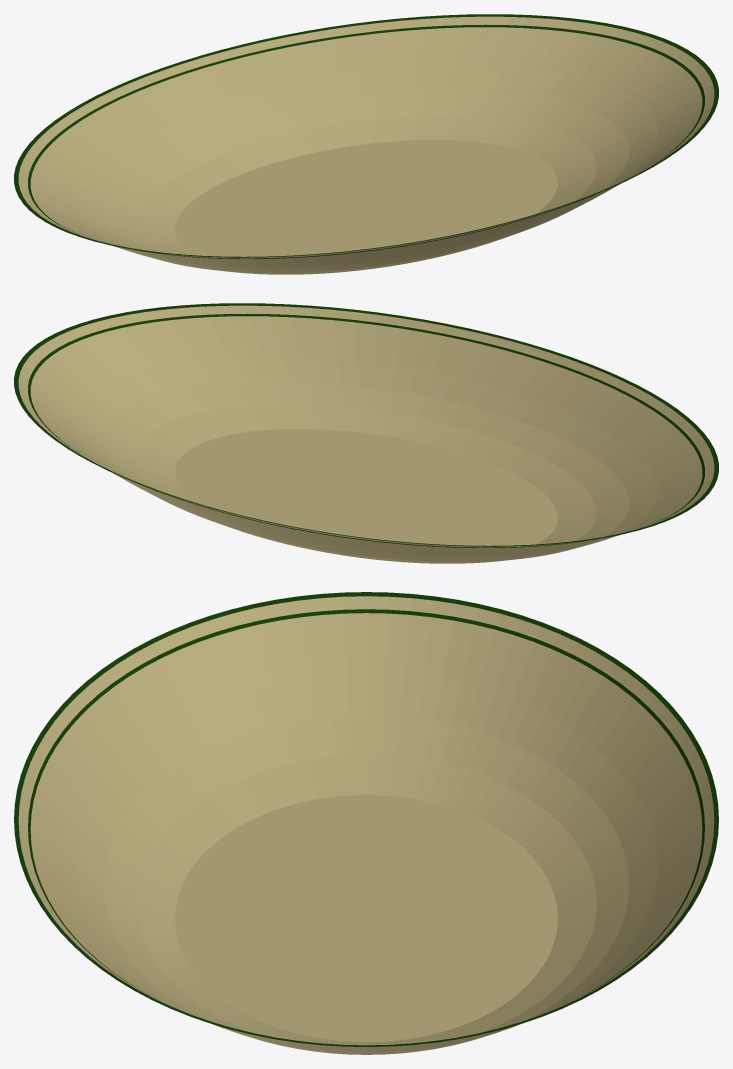
Rendered from test96_non.glb.
3 renders of one model, top to bottom at view 1: azimuth 30°, elevation 25°; view 2: azimuth 150°, elevation 25°; view 3: azimuth 270°, elevation 25°, orthographic. The views are drawn at different scales.
Visible parts, largest first — view 1: Sphere, Sphere.001, Sphere.002; view 2: Sphere, Sphere.001, Sphere.002; view 3: Sphere, Sphere.001, Sphere.002.
Boxes of the visible parts, x1,y1,x2,y2 form: Sphere: (18, 16, 714, 274); Sphere.001: (14, 14, 718, 257); Sphere.002: (28, 24, 704, 258); Sphere: (18, 305, 714, 563); Sphere.001: (14, 303, 718, 546); Sphere.002: (28, 313, 704, 547); Sphere: (18, 596, 714, 1054); Sphere.001: (14, 592, 718, 1046); Sphere.002: (28, 609, 704, 1007).
Size of the model in its own units: 0.2771 by 0.0313 by 0.1814.
